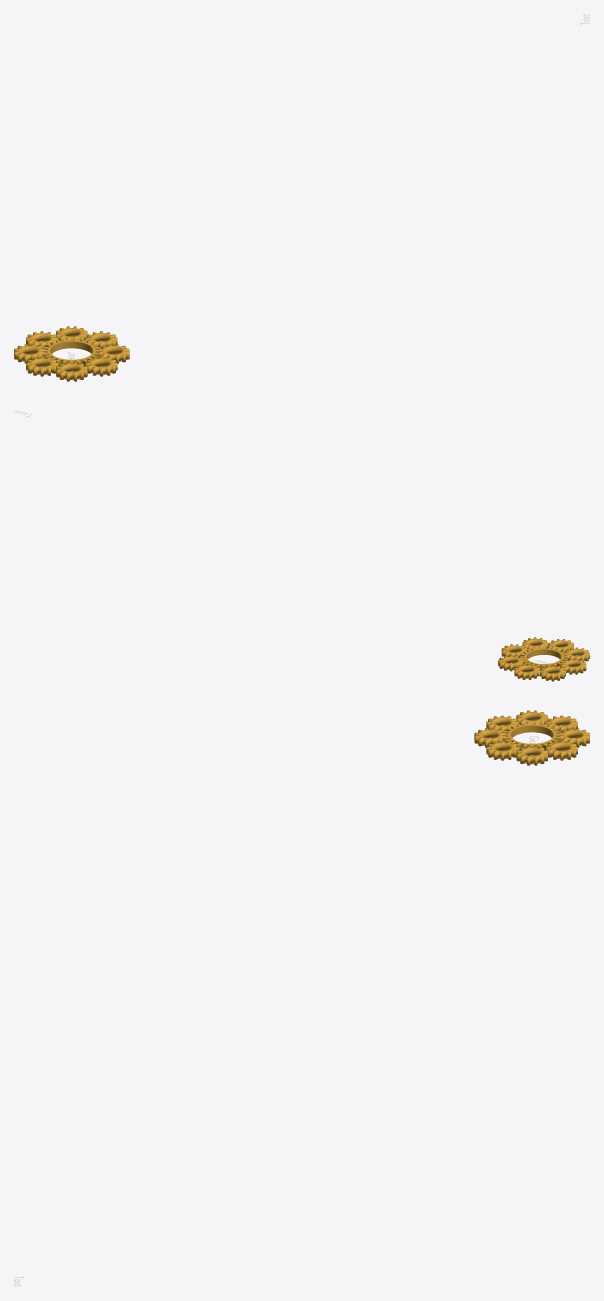
The picture shows the model from 3 angles, top to bottom: view 1: azimuth 90°, elevation 25°; view 2: azimuth 150°, elevation 25°; view 3: azimuth 270°, elevation 25°; orthographic projection. The views are drawn at different scales.
Parts seen in each view (by area): view 1: Gear.006, Gear.008, Gear, Gear.004; view 2: Gear.006; view 3: Gear.006.
Boxes of the visible parts, bbox=[...] form: Gear.006: bbox=[42, 338, 101, 366]; Gear.008: bbox=[85, 356, 117, 376]; Gear: bbox=[56, 362, 87, 381]; Gear.004: bbox=[26, 356, 57, 376]; Gear.006: bbox=[520, 646, 567, 670]; Gear.006: bbox=[502, 722, 561, 750].
Bounding box in the file's own units: 80.94 × 8.68 × 42.05.
